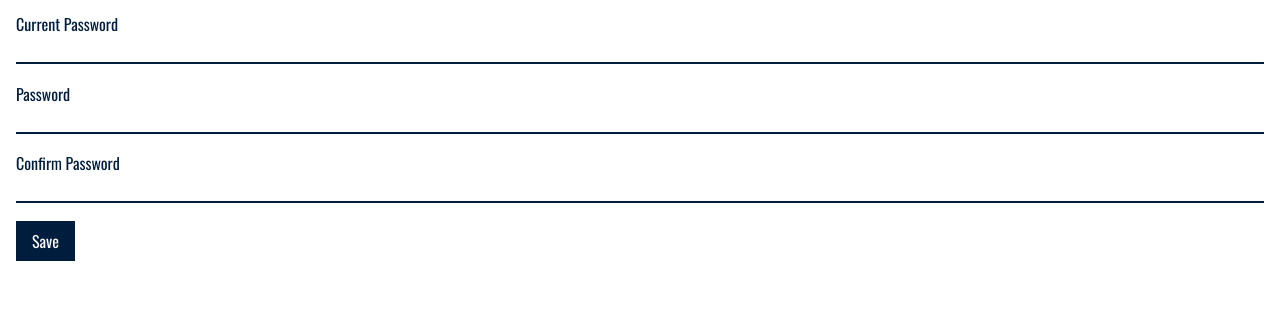
it: Edit User Password Form › should display an error message for a password longer than 32 characters
In the password field labelled "Current Password": (640, 51) [16,37,1264,64], type "Pa$$w0rd"
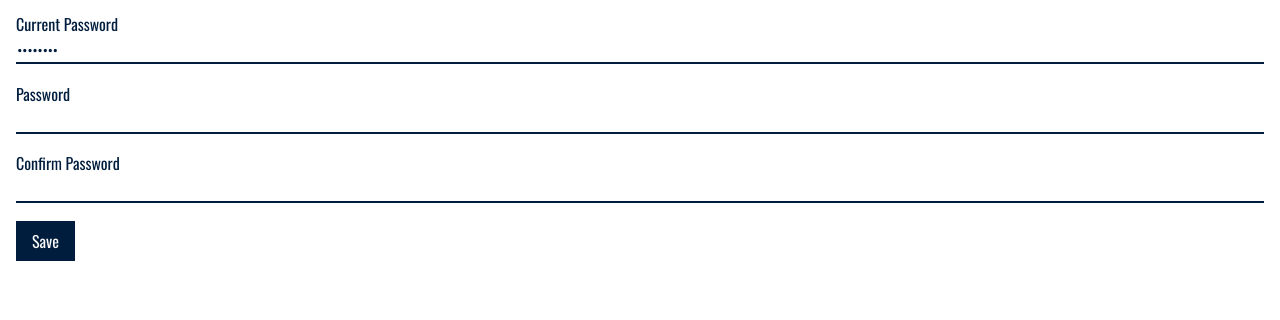
In the password field labelled "Password": (640, 120) [16,107,1264,134], type "Pa$$w0rd1Pa$$w0rd1Pa$$w0rd1Pa$$w0rd1"
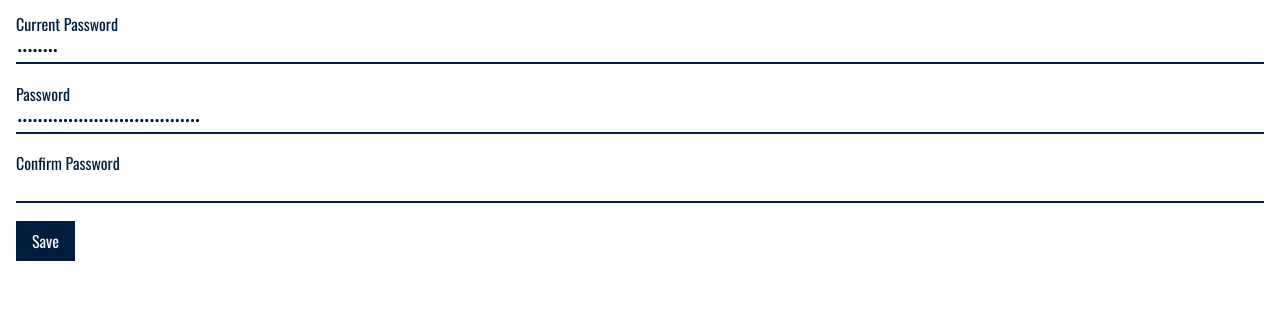
In the password field labelled "Confirm Password": (640, 190) [16,176,1264,203], type "Pa$$w0rd"
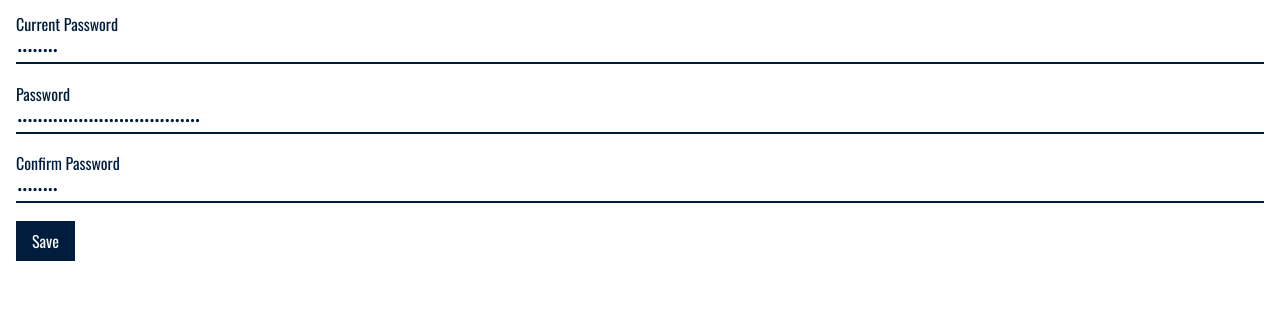
Click the button "Save": (46, 240) [16,220,75,260]
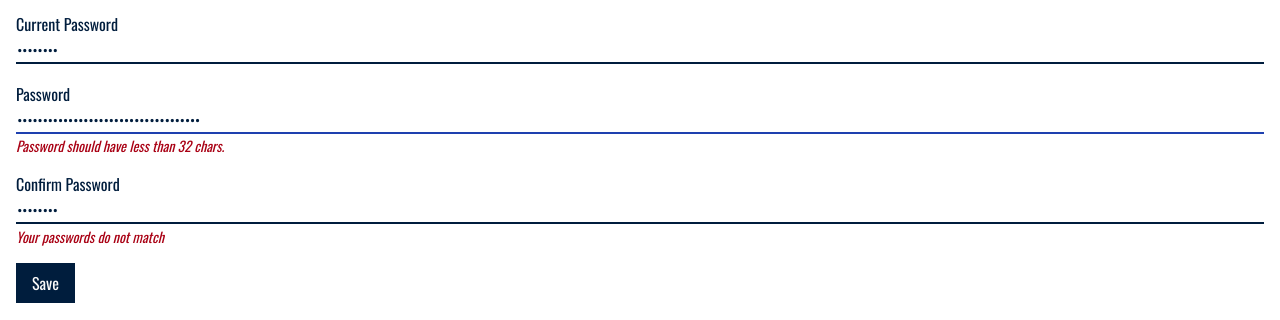
Expected: the text "Password should have less than 32 chars." is shown, [16,135,224,156]
